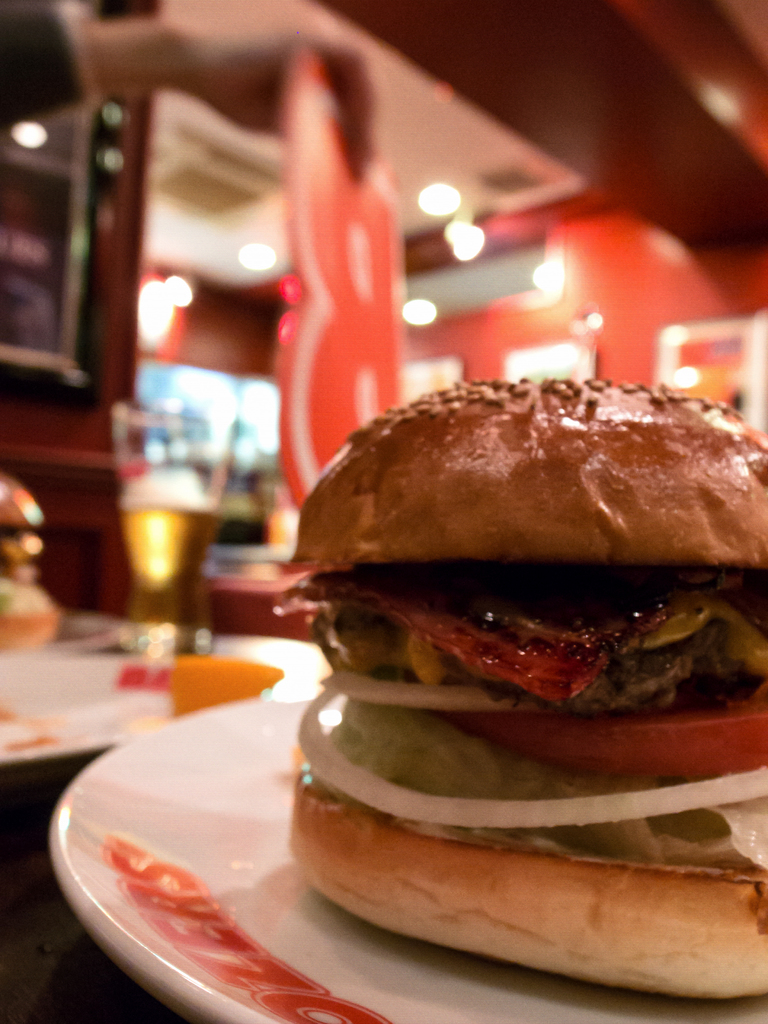Hamburger: (294, 376, 767, 999)
